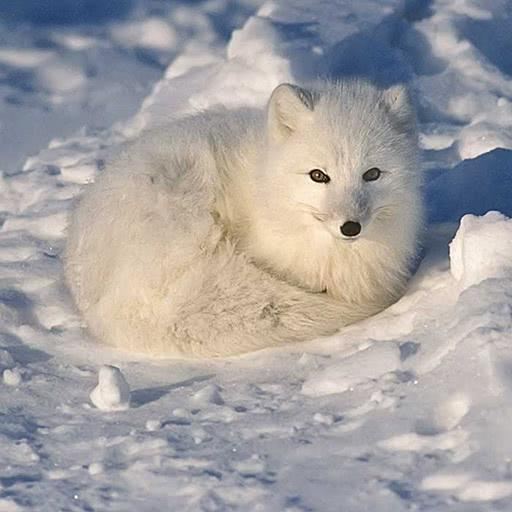Fox: (59, 79, 430, 368)
